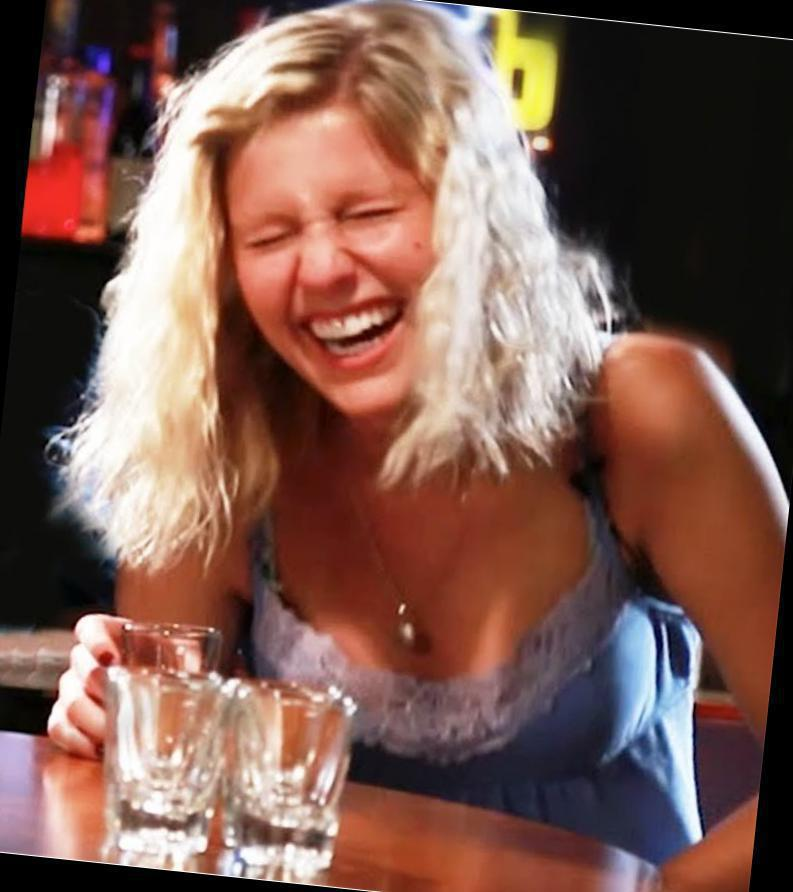Drunk: (229, 130, 434, 402)
